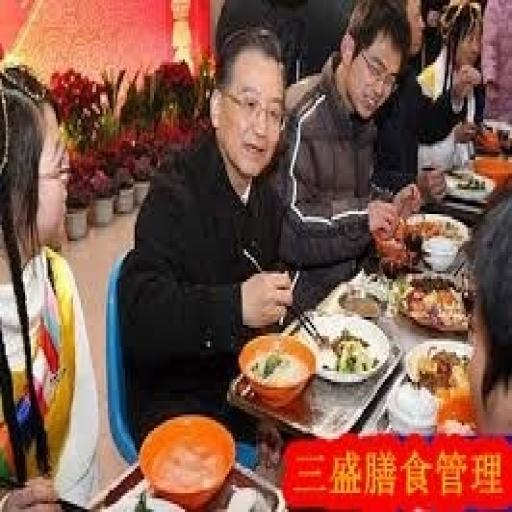eating: (0, 0, 510, 507)
